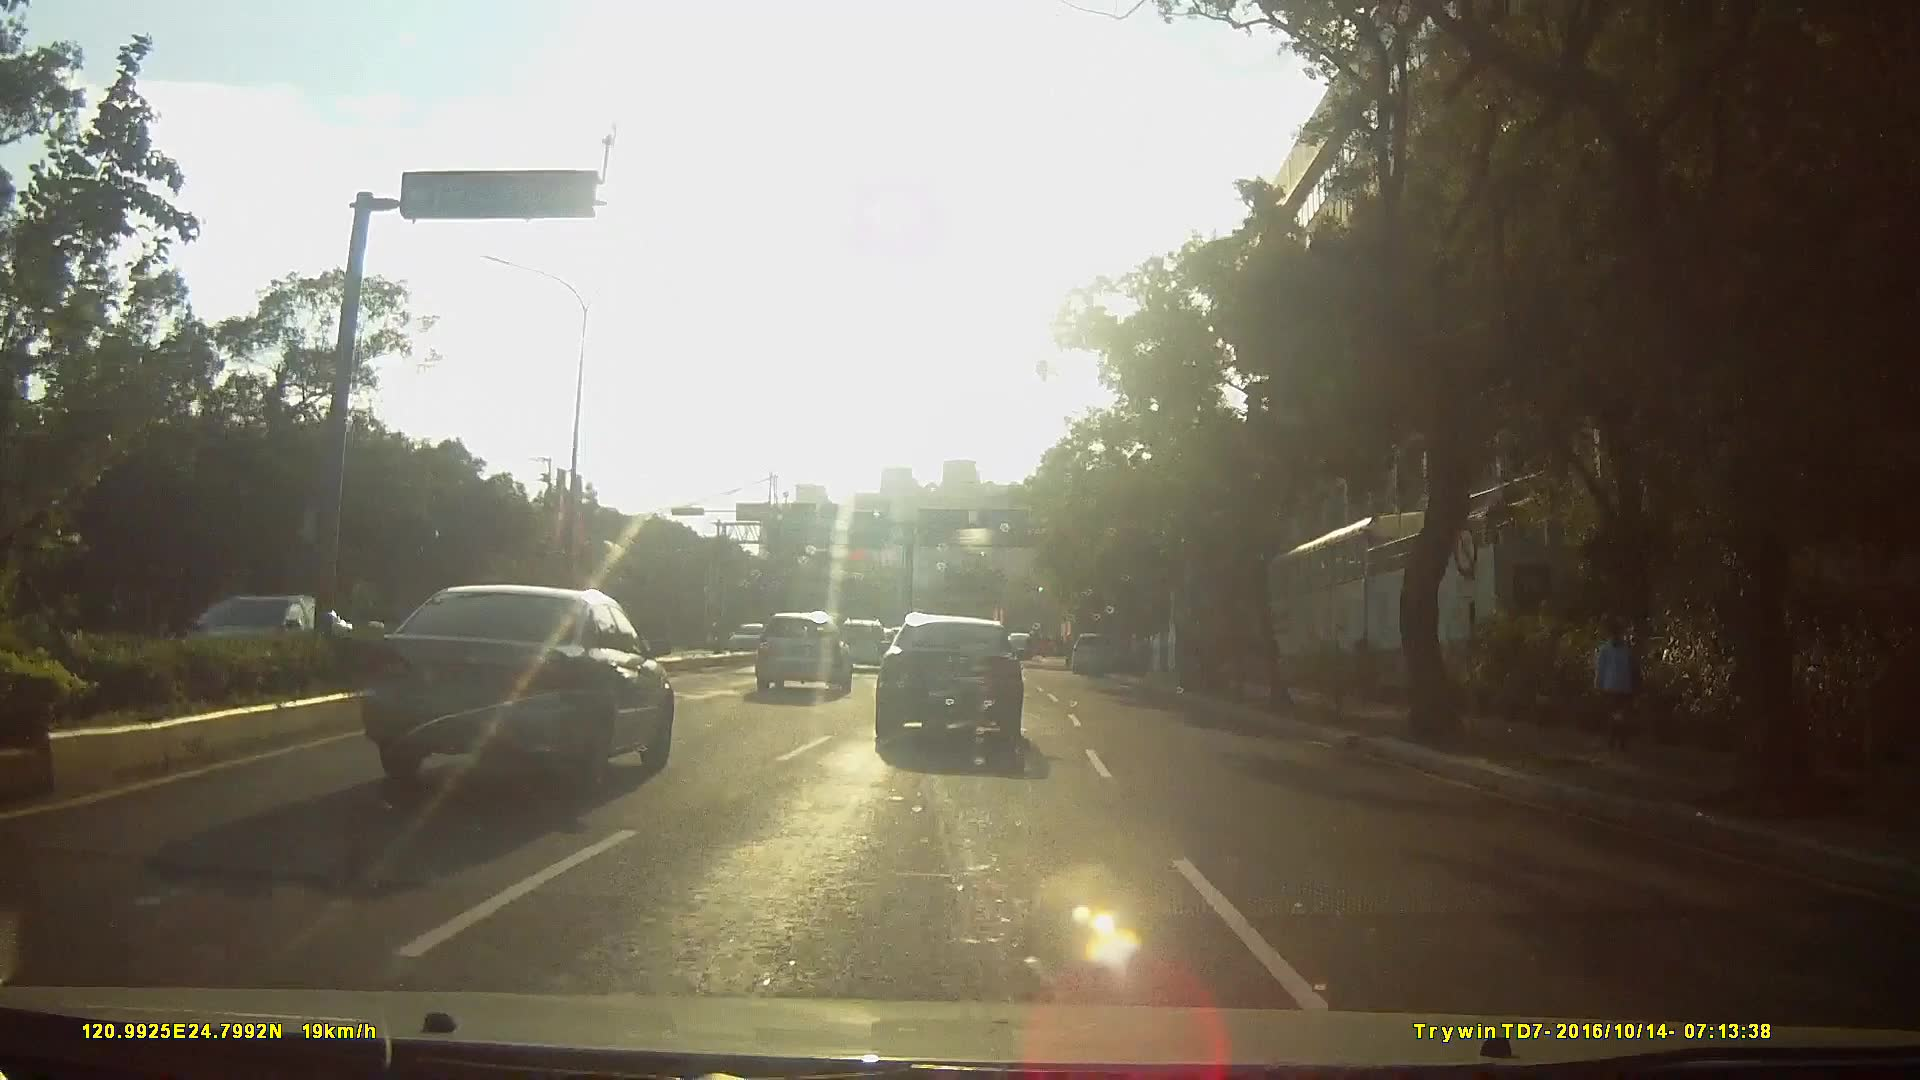pedestrian: (1588, 606, 1643, 754)
vehicle: (345, 582, 668, 797), (869, 613, 1039, 755), (147, 592, 358, 689), (748, 611, 848, 699), (830, 615, 885, 673), (1067, 631, 1118, 677), (723, 620, 775, 658)
